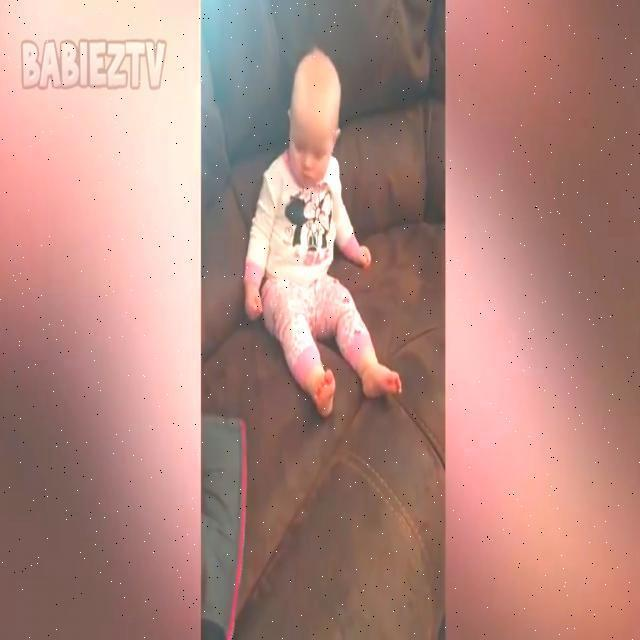child: (246, 52, 401, 418)
